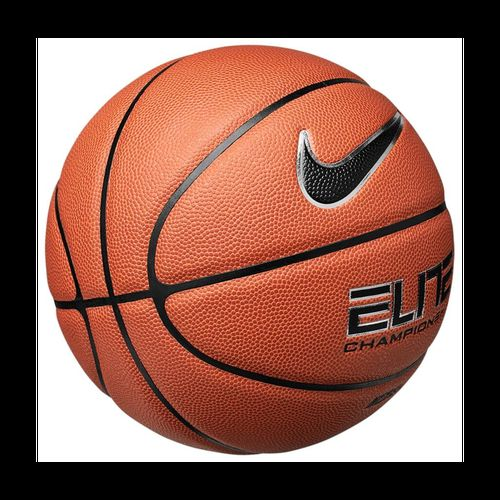ball: (47, 46, 449, 454)
